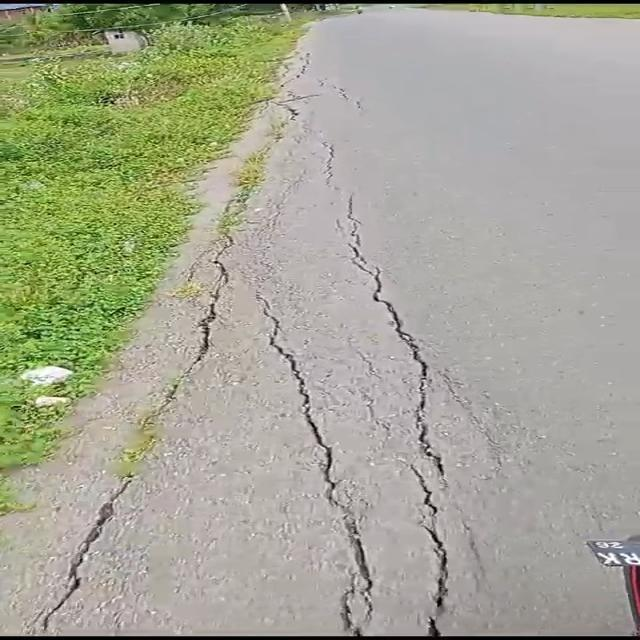Memanjang: (312, 138, 465, 633), (242, 282, 392, 640)
